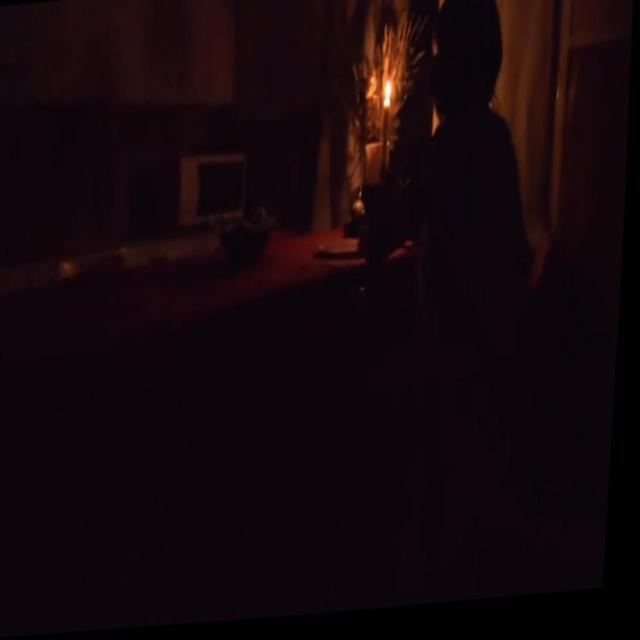fire: (381, 81, 397, 112)
